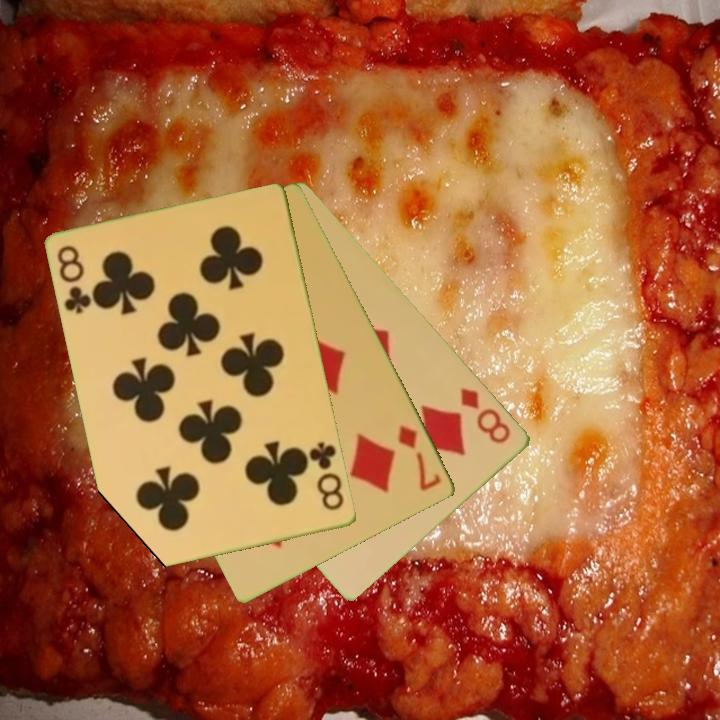7d: (395, 421, 445, 494)
8c: (306, 438, 348, 514), (54, 242, 95, 317)
8d: (457, 384, 515, 447)
